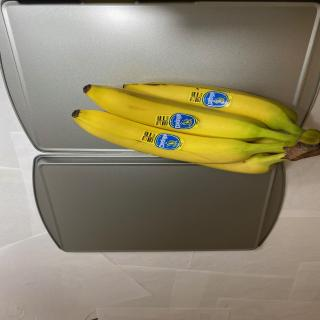Chilli: (71, 82, 319, 175), (122, 81, 305, 135)
